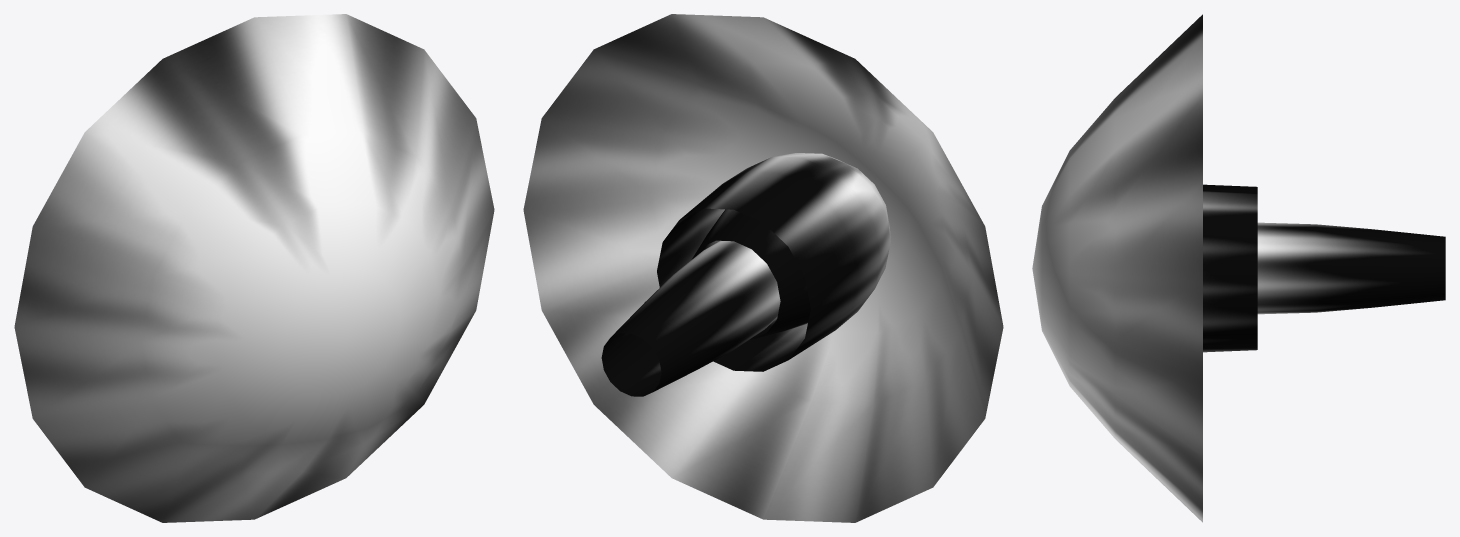
File: Tackle.FBX
3 renders of one model, left to right at view 1: azimuth 30°, elevation 25°; view 2: azimuth 150°, elevation 25°; view 3: azimuth 270°, elevation 25°, orthographic. The views are drawn at different scales.
Parts seen in each view (by area): view 1: Sphere004; view 2: Sphere004, Sphere002, Sphere003, Sphere001; view 3: Sphere004, Sphere003, Sphere002.
Boxes of the visible parts, box(x1,y1,x2,y2) form: Sphere004: box(14, 14, 494, 522); Sphere004: box(523, 14, 1003, 522); Sphere002: box(657, 153, 890, 371); Sphere003: box(601, 240, 780, 396); Sphere001: box(691, 209, 810, 339); Sphere004: box(1032, 14, 1202, 522); Sphere003: box(1257, 222, 1445, 314); Sphere002: box(1203, 184, 1257, 352).
Bounding box in the file's own units: 118 × 118 × 95.49.
